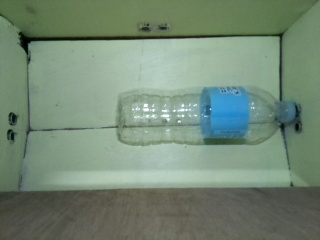bottle: (114, 84, 297, 144)
